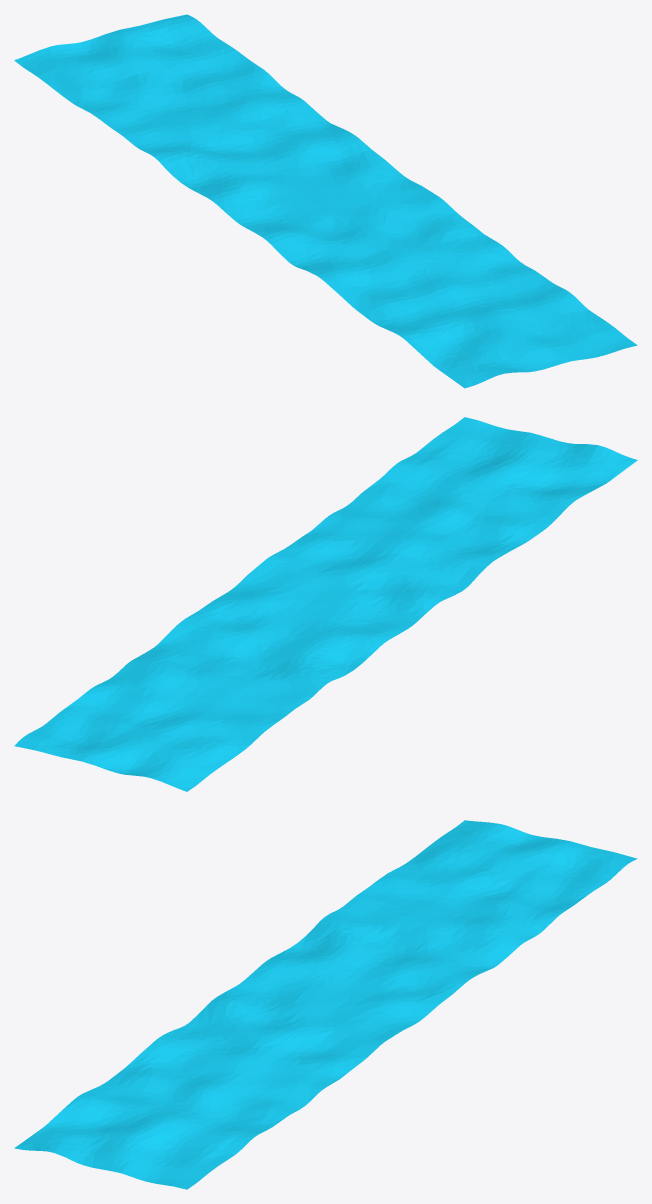
File: water.FBX
3 views of the same model, one above another, from view 1: azimuth 30°, elevation 25°; view 2: azimuth 150°, elevation 25°; view 3: azimuth 330°, elevation 25° (orthographic).
Visible parts, largest first — view 1: Plane001; view 2: Plane001; view 3: Plane001.
Part boxes in pixels (x1=…): Plane001: x1=14, y1=14, x2=637, y2=388; Plane001: x1=14, y1=417, x2=637, y2=791; Plane001: x1=14, y1=820, x2=637, y2=1189.
Bounding box in the file's own units: 1628 × 73.65 × 7341.
